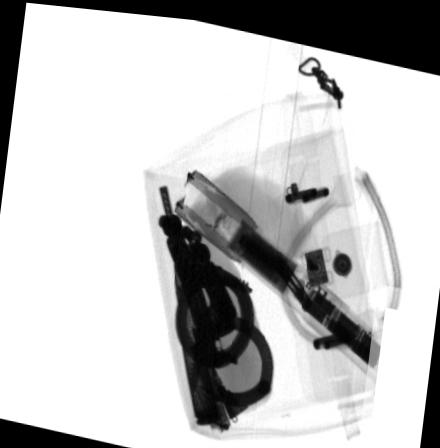Baton: (172, 166, 399, 382)
Bullet: (175, 251, 223, 423)
HandCuffs: (157, 210, 273, 401)
